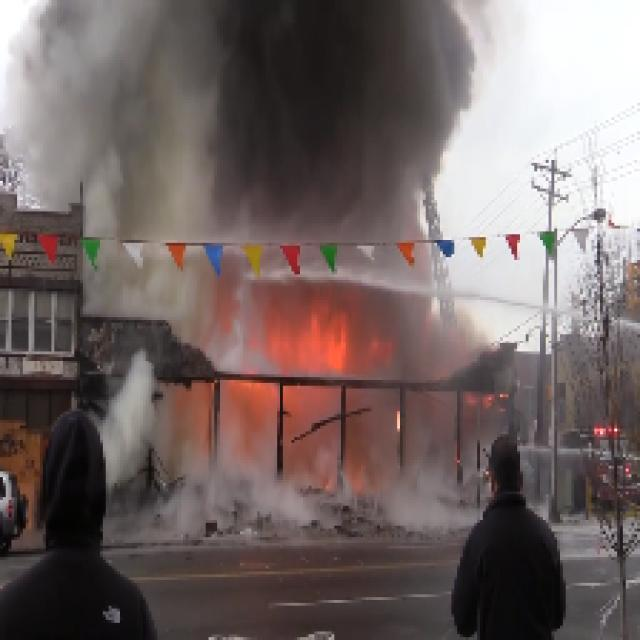Smoke: (45, 0, 480, 244)
